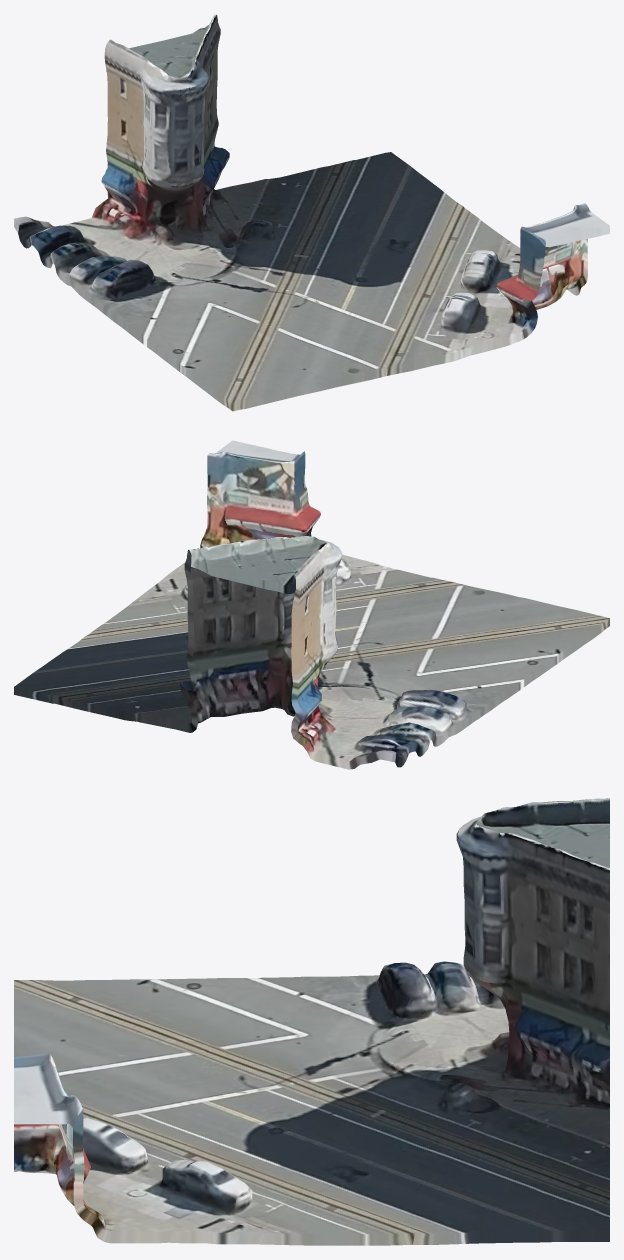
File: z20-167731-405193-h0-yup-uvflip-v3-world.glb
3 renders of one model, top to bottom at view 1: azimuth 30°, elevation 25°; view 2: azimuth 150°, elevation 25°; view 3: azimuth 270°, elevation 25°, orthographic. The views are drawn at different scales.
Size of the model in its own units: 30.16 by 14.72 by 30.32.
Materials: 1 (1 with a texture image).
